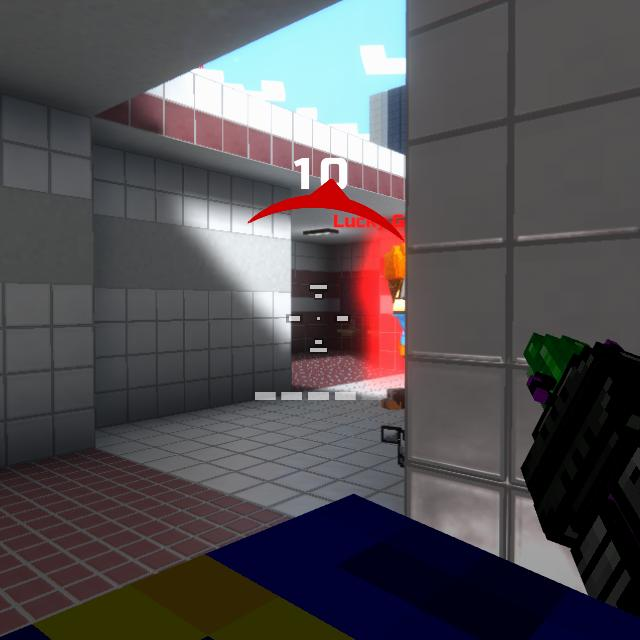Enemy: (382, 246, 403, 361)
